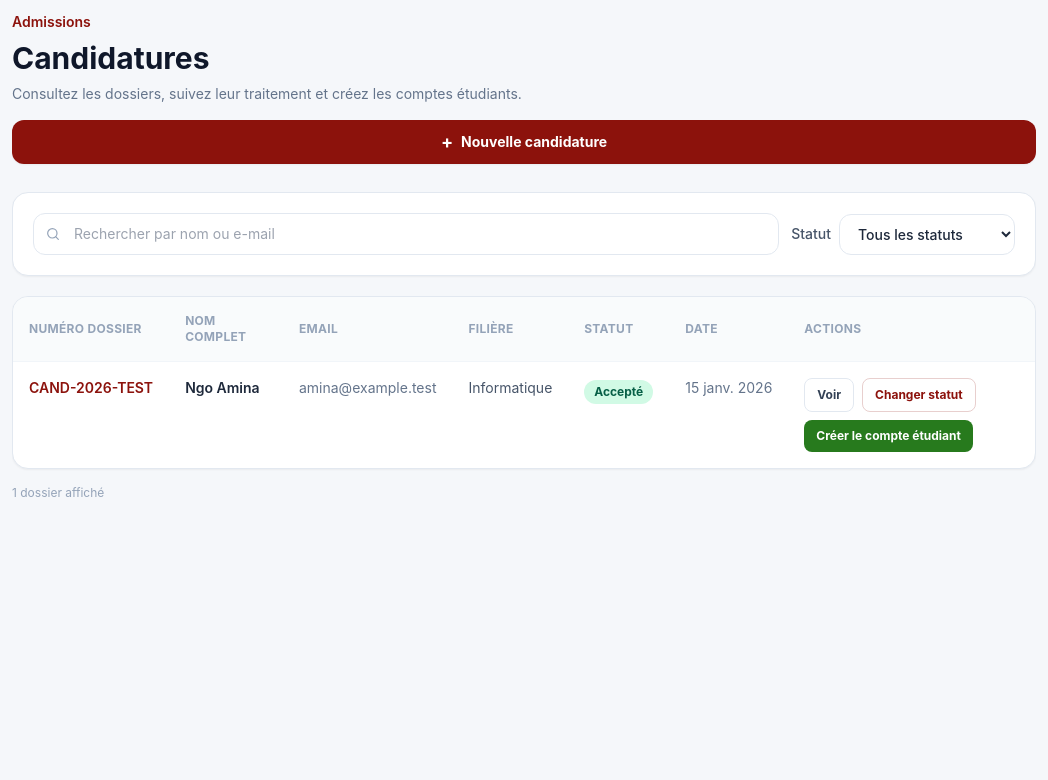
Test case: gestion des candidatures côté personnel › crée un compte étudiant depuis une candidature acceptée
This screenshot has width=1048, height=780.
What coordinates should you click on to do the following:
click the button "Créer le compte étudiant"
I would click on:
 (889, 436)
Its box is [804,420,973,452].
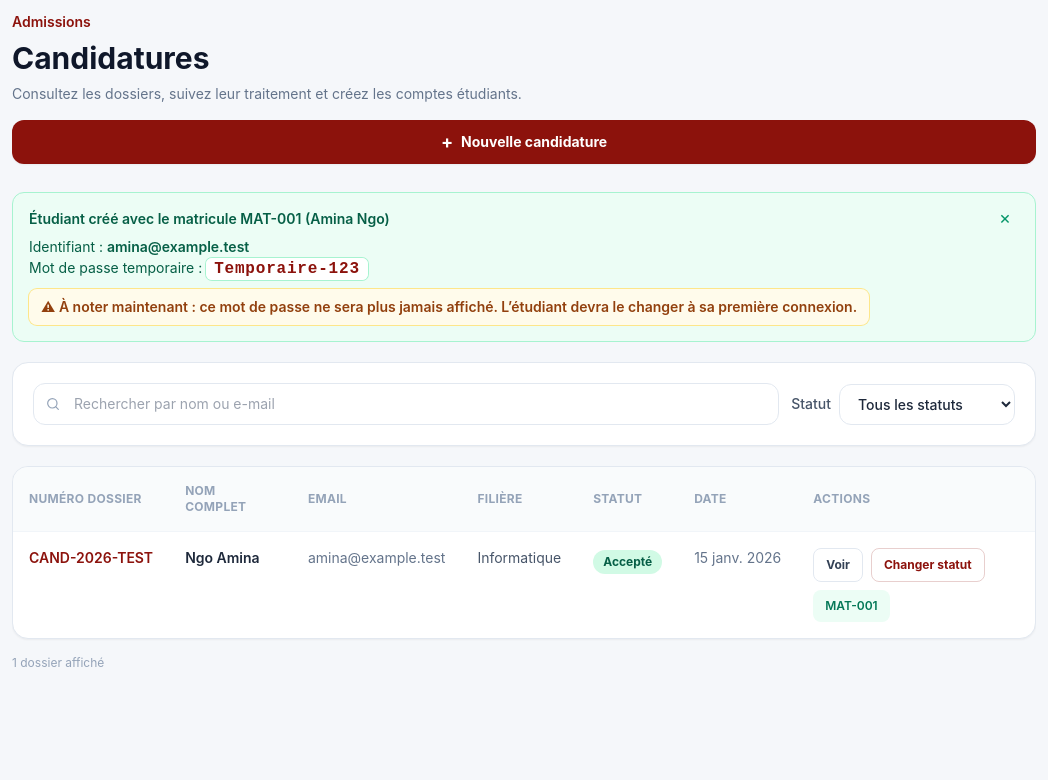
Check: the text "Étudiant créé avec le matricule MAT-001 (Amina Ngo)" is shown, box [29,210,390,227]
